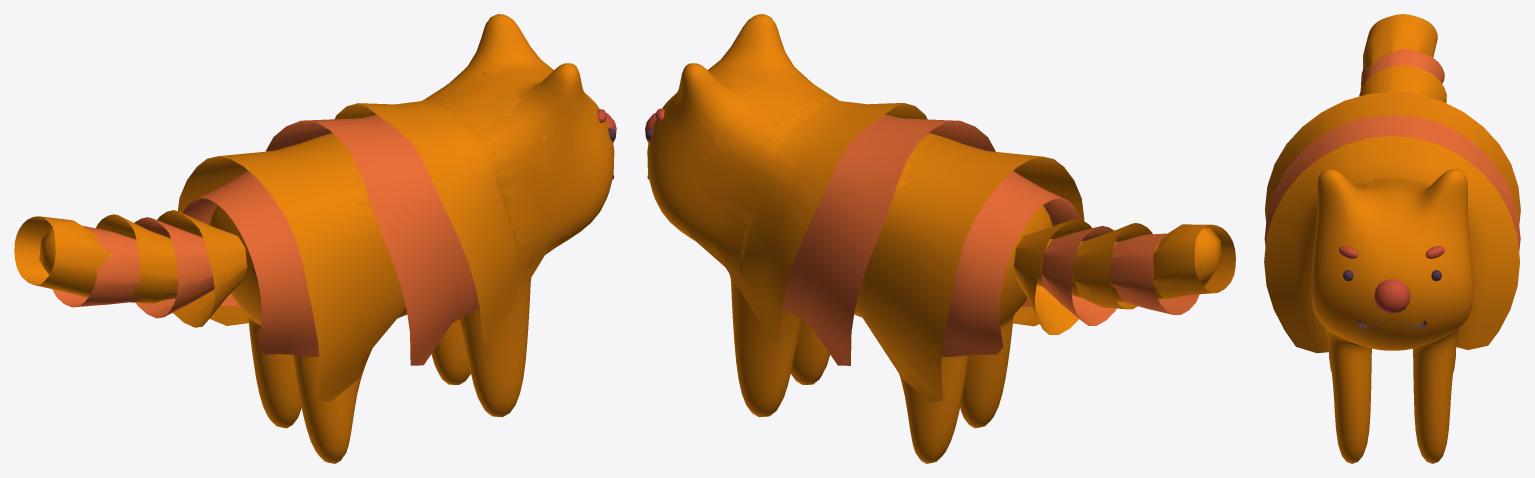
Rendered from carnivore.fbx.
3 renders of one model, left to right at view 1: azimuth 30°, elevation 25°; view 2: azimuth 150°, elevation 25°; view 3: azimuth 270°, elevation 25°, orthographic. The views are drawn at different scales.
Parts seen in each view (by area): view 1: Cube, Rufle.002, Rufle, Rufle.001, Rufle.003, Rufle.008, Rufle.004, Rufle.005, Rufle.007, Rufle.006, Cube.004; view 2: Cube, Rufle.002, Rufle, Rufle.001, Rufle.003, Rufle.008, Rufle.007, Rufle.004, Rufle.005, Rufle.006, Cube.004; view 3: Cube, Rufle, Rufle.002, Rufle.001, Rufle.008, Rufle.006, Rufle.007, Cube.001, Cube.003.
Boxes of the visible parts, <box> form: Cube: <box>209,14,614,463</box>; Rufle.002: <box>178,138,405,401</box>; Rufle: <box>335,68,570,343</box>; Rufle.001: <box>266,114,479,365</box>; Rufle.003: <box>183,171,319,356</box>; Rufle.008: <box>14,216,109,297</box>; Rufle.004: <box>157,210,247,327</box>; Rufle.005: <box>134,217,214,318</box>; Rufle.007: <box>52,225,141,307</box>; Rufle.006: <box>96,214,178,303</box>; Cube.004: <box>39,227,175,301</box>; Cube: <box>647,14,1052,463</box>; Rufle.002: <box>856,138,1084,402</box>; Rufle: <box>687,67,927,341</box>; Rufle.001: <box>782,114,995,365</box>; Rufle.003: <box>942,171,1079,356</box>; Rufle.008: <box>1152,224,1235,298</box>; Rufle.007: <box>1110,233,1199,314</box>; Rufle.004: <box>1014,218,1091,334</box>; Rufle.005: <box>1041,226,1116,325</box>; Rufle.006: <box>1073,223,1152,309</box>; Cube.004: <box>1036,227,1222,301</box>; Cube: <box>1311,169,1473,463</box>; Rufle: <box>1264,136,1519,353</box>; Rufle.002: <box>1265,91,1520,223</box>; Rufle.001: <box>1264,114,1520,251</box>; Rufle.008: <box>1363,14,1437,69</box>; Rufle.006: <box>1359,65,1446,102</box>; Rufle.007: <box>1360,49,1444,90</box>; Cube.001: <box>1374,279,1410,313</box>; Cube.003: <box>1339,246,1444,258</box>.
Bounding box in the file's own units: 829 × 477 × 346.
